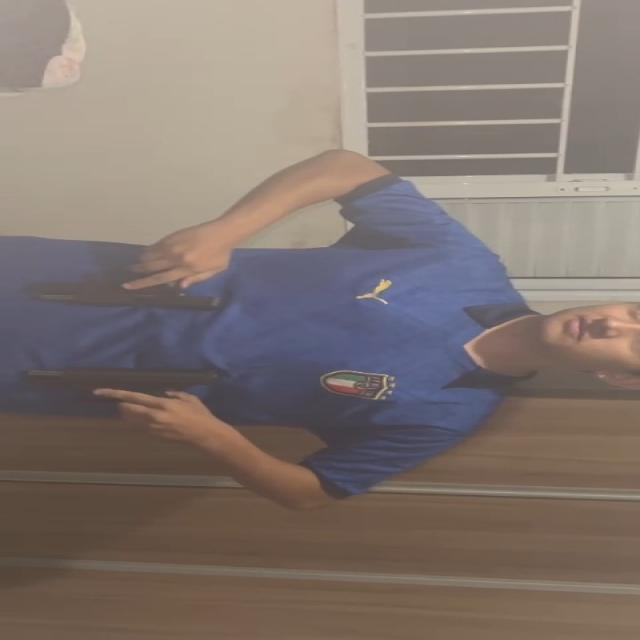gun: (25, 361, 227, 403), (22, 275, 226, 313)
